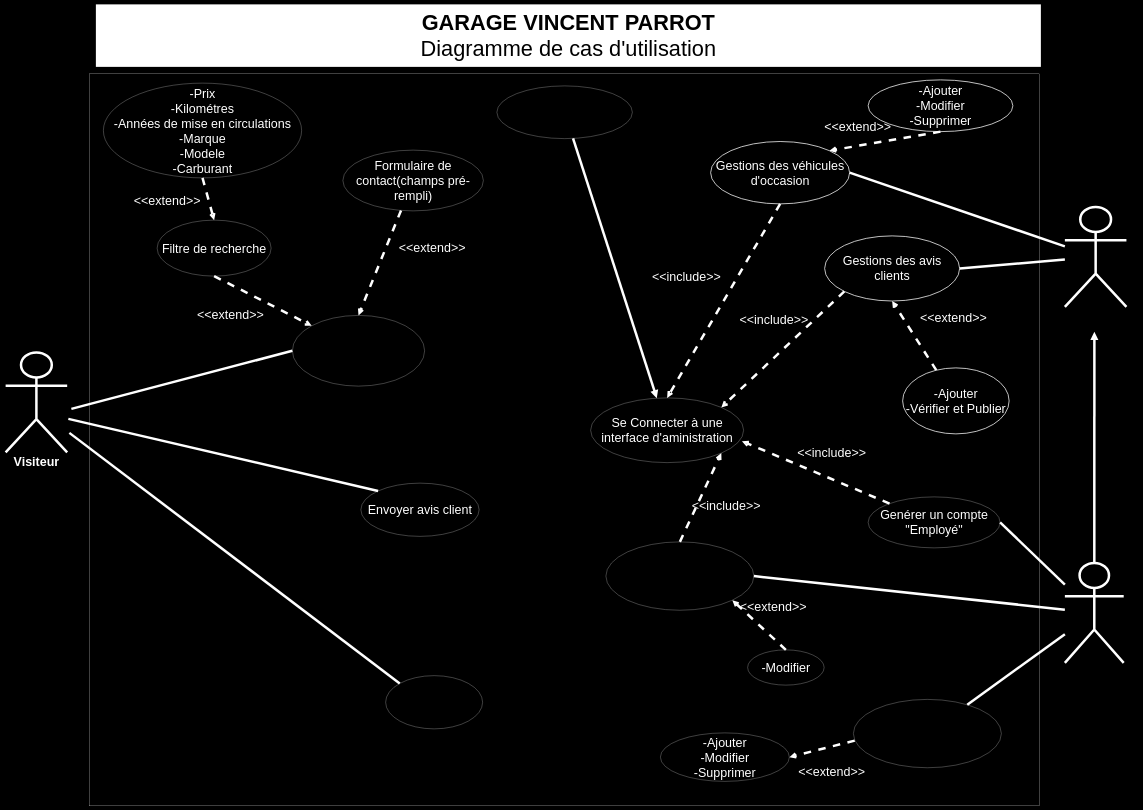
The diagram is 1143 pixels wide and 810 high, and some of its shapes have lost their labels. The shapes that lost their labels are listed below. From the top down, each one's centre as x and y in pixels, then its label:
At pixel 564 112: "Connexion Identifiant/Password".
At pixel 1096 257: "Employés".
At pixel 358 350: "Véhicules d'occasions".
At pixel 680 576: "Gestions des horaires et jours d'ouvertures".
At pixel 1094 613: "Administrateur".
At pixel 434 702: "Formulaire de contact".
At pixel 927 733: "Gestions des services".
